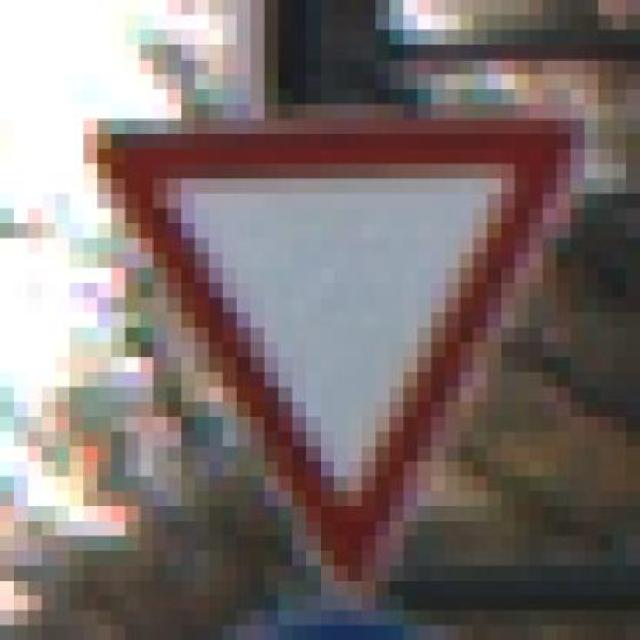Give Way: (56, 89, 626, 626)
